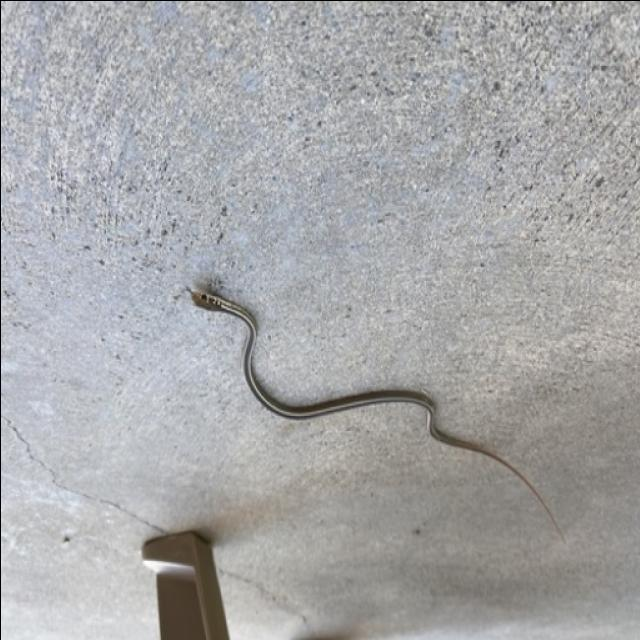snake: (175, 272, 569, 548)
